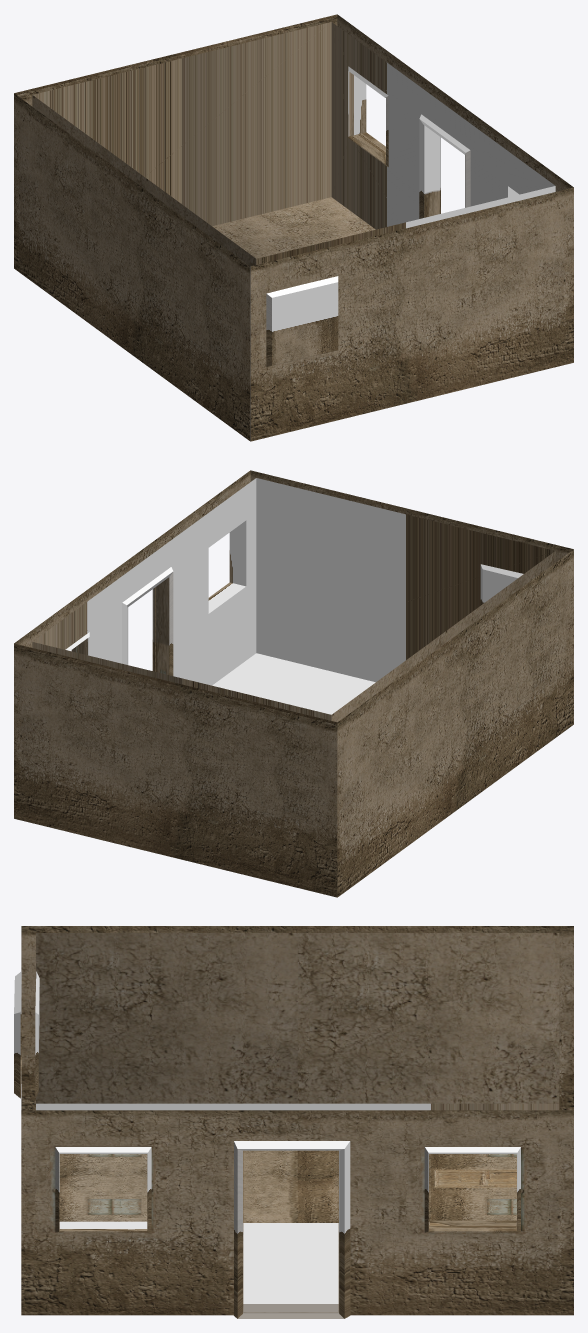
File: house_egypt.glb
The picture shows the model from 3 angles, top to bottom: view 1: azimuth 30°, elevation 25°; view 2: azimuth 150°, elevation 25°; view 3: azimuth 270°, elevation 25°; orthographic projection. The views are drawn at different scales.
Parts seen in each view (by area): view 1: Cube.001; view 2: Cube.001; view 3: Cube.001.
Boxes of the visible parts, x1,y1,x2,y2 form: Cube.001: (14,14,573,441); Cube.001: (14,470,573,897); Cube.001: (14,926,573,1318).
Bounding box in the file's own units: 6.11 × 3.12 × 7.71.
1 material, 1 textured.
